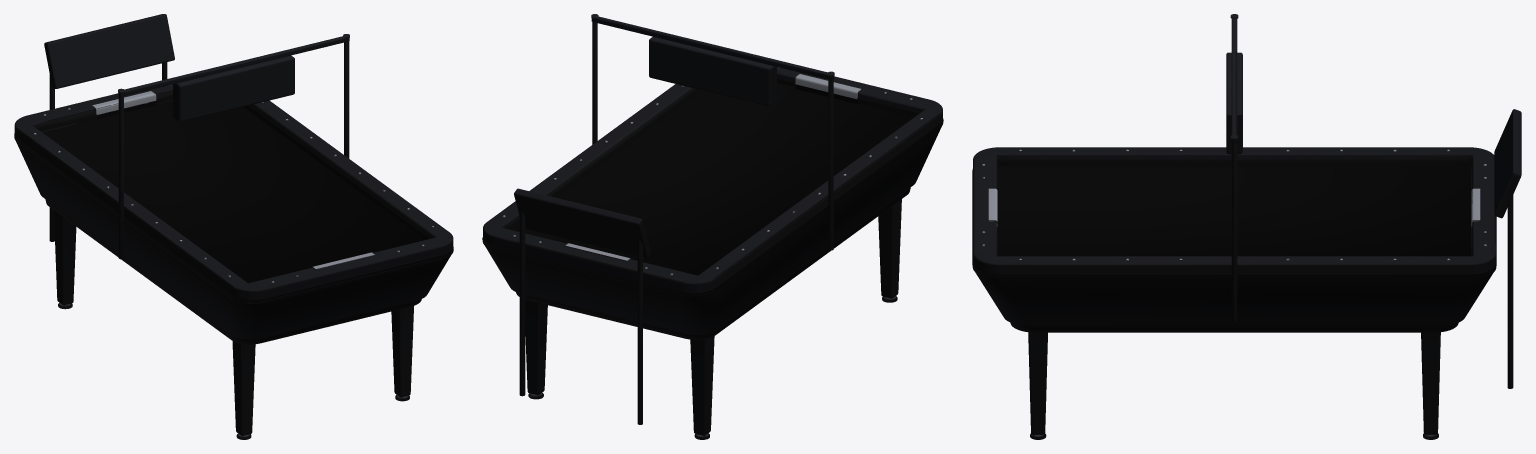
File: table-black.glb
3 views of the same model, side by side, from view 1: azimuth 30°, elevation 25°; view 2: azimuth 150°, elevation 25°; view 3: azimuth 270°, elevation 25° (orthographic). The views are drawn at different scales.
Parts seen in each view (by area): view 1: table|graphite, table|paint, table|cabinet, gate|graphite, endboard|graphite, table|rubber, table|chrome; view 2: table|graphite, table|cabinet, table|paint, gate|graphite, endboard|graphite, table|rubber, table|chrome; view 3: table|graphite, table|cabinet, table|paint, endboard|graphite, gate|graphite, table|rubber, table|chrome.
Boxes of the visible parts, box(x1,y1,x2,y2) form: table|graphite: box(14, 100, 453, 435); table|paint: box(14, 84, 453, 300); table|cabinet: box(16, 141, 450, 339); gate|graphite: box(118, 34, 349, 259); endboard|graphite: box(44, 14, 174, 241); table|rubber: box(37, 95, 430, 439); table|chrome: box(33, 84, 434, 437); table|graphite: box(482, 84, 943, 435); table|cabinet: box(485, 126, 941, 334); table|paint: box(483, 67, 942, 294); gate|graphite: box(591, 14, 834, 250); endboard|graphite: box(514, 188, 650, 424); table|rubber: box(506, 78, 919, 439); table|chrome: box(502, 67, 922, 437); table|graphite: box(972, 166, 1496, 434); table|cabinet: box(975, 272, 1493, 325); table|paint: box(973, 147, 1495, 275); endboard|graphite: box(1494, 109, 1521, 388); gate|graphite: box(1226, 14, 1242, 322); table|rubber: box(996, 161, 1472, 439); table|chrome: box(982, 149, 1486, 437).
Bounding box in the file's own units: 1.23 × 1.48 × 2.31.
8 materials, 8 textured.
